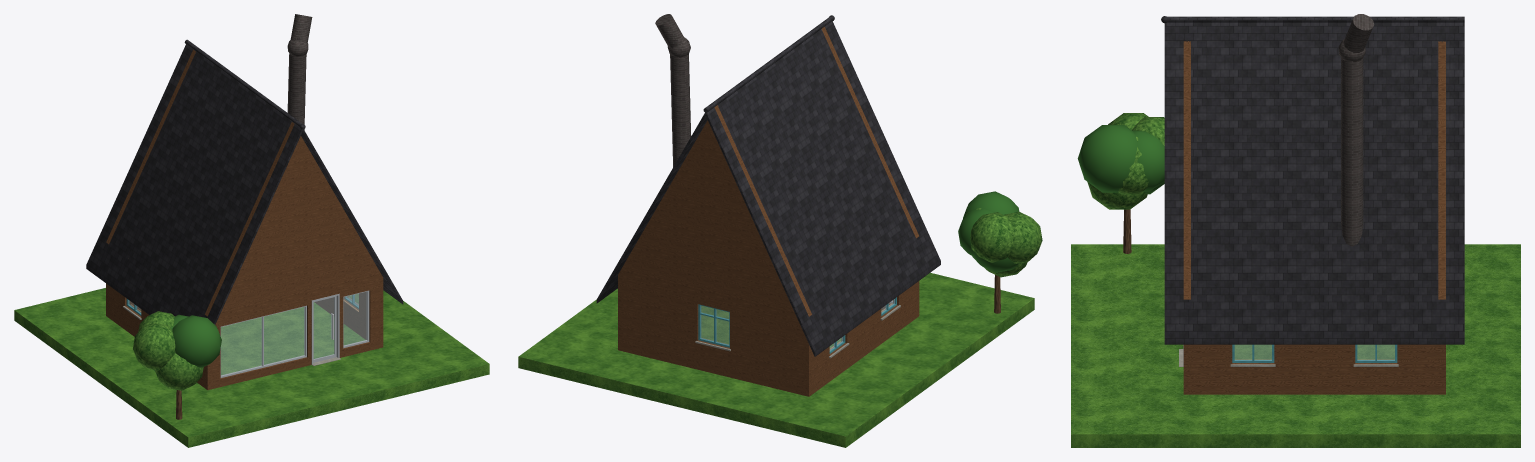
File: b_witch_cottage.gltf
The picture shows the model from 3 angles, left to right: view 1: azimuth 30°, elevation 25°; view 2: azimuth 150°, elevation 25°; view 3: azimuth 270°, elevation 25°; orthographic projection. The views are drawn at different scales.
Parts seen in each view (by area): view 1: S_witch_cottage, D_witch_cottage_F1_S2_Door0; view 2: S_witch_cottage; view 3: S_witch_cottage.
Part boxes in pixels (left/top/right/bottom): S_witch_cottage: left=14, top=14, right=489, bottom=447; D_witch_cottage_F1_S2_Door0: left=313, top=296, right=336, bottom=362; S_witch_cottage: left=518, top=14, right=1042, bottom=447; S_witch_cottage: left=1071, top=14, right=1520, bottom=447.
Size of the model in its own units: 13.1 by 11.32 by 12.
Materials: 18 (12 with a texture image).
